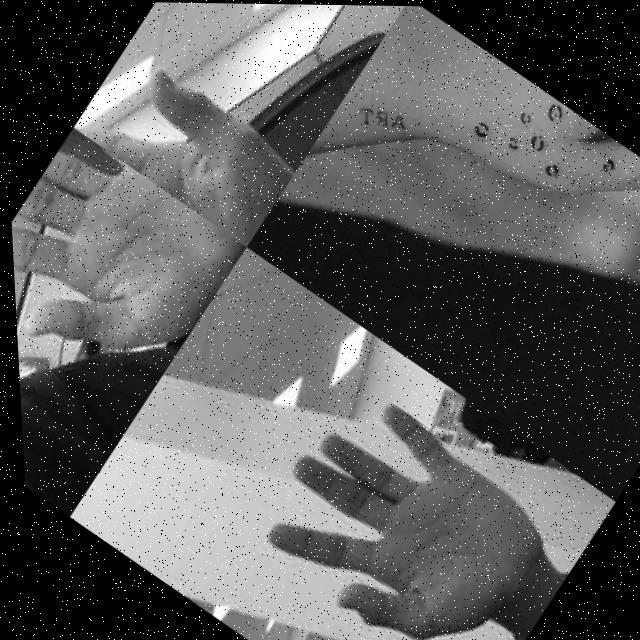no-gloves: (309, 14, 640, 414), (229, 371, 566, 640), (5, 125, 249, 418), (66, 32, 308, 246)
